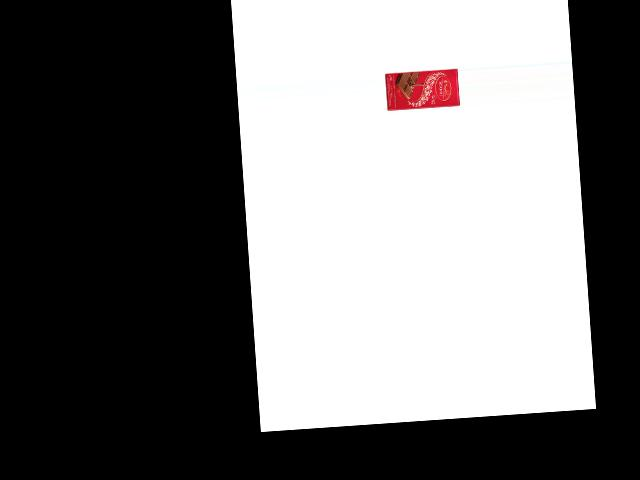chocolate: (385, 64, 459, 112)
